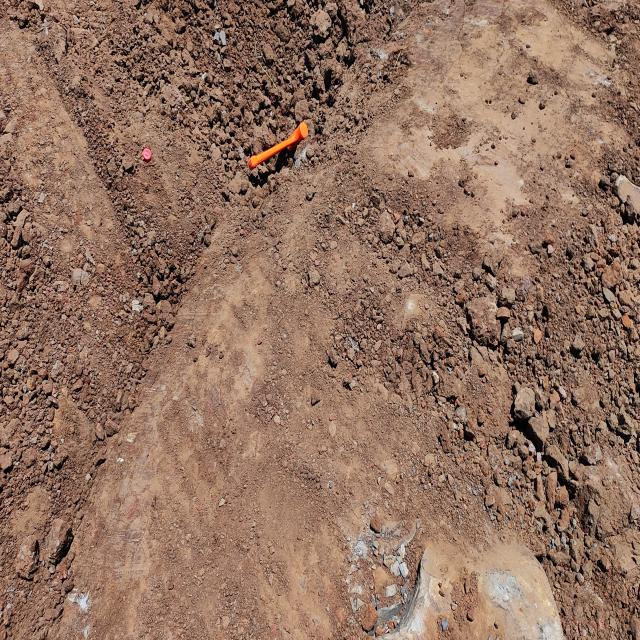Orange_hammer: (248, 120, 308, 170)
